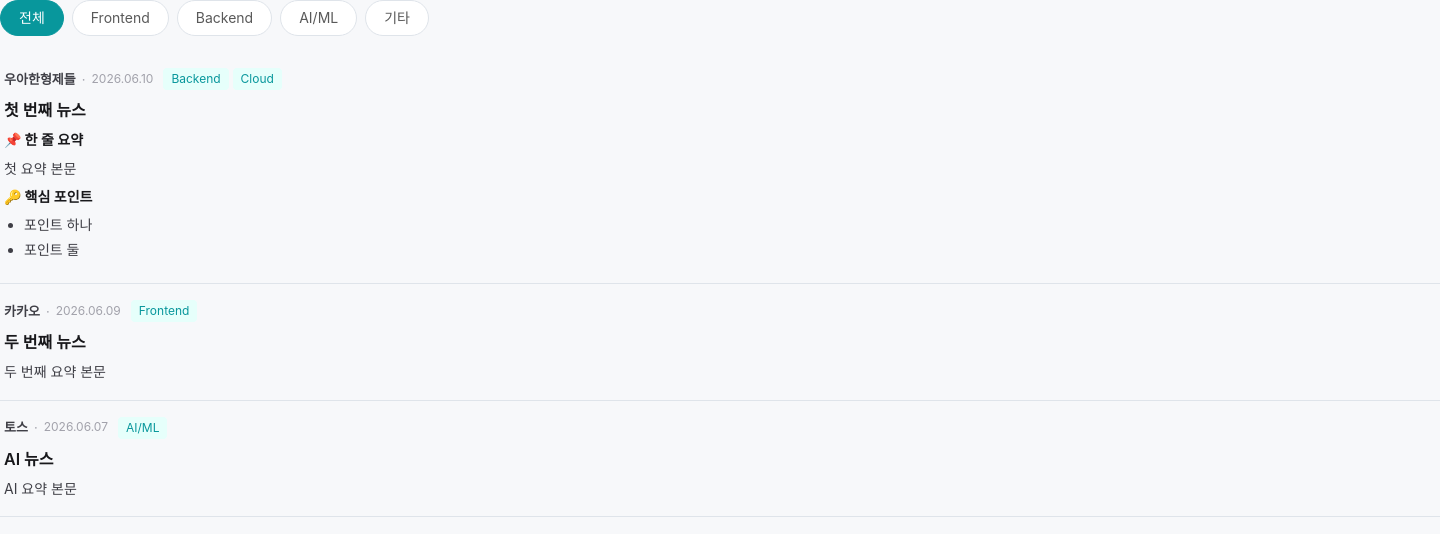
TechNewsPage › 카테고리 API에서 받은 칩이 표시되고 선택 시 해당 categoryId로 재조회한다
The image size is (1440, 534).
Expected: the link "첫 번째 뉴스" is shown, [4,100,86,120]
Expected: the text "전체" is shown, [0,0,64,36]
Click the text "Frontend" next to "전체": click(120, 18) [72,0,169,36]
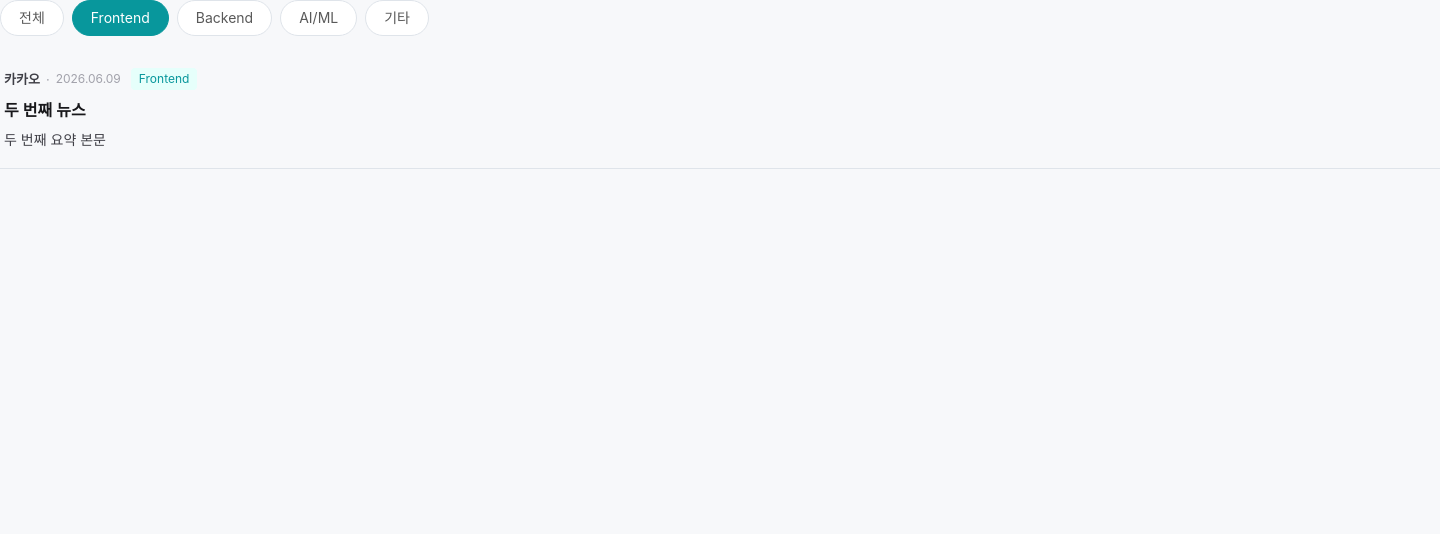
Expected: the link "두 번째 뉴스" is shown, [4,100,86,120]
Now the link "첫 번째 뉴스" is gone
